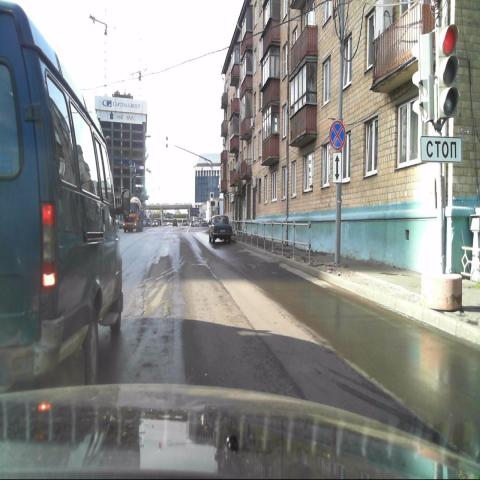8_2_4: (333, 150, 343, 183)
